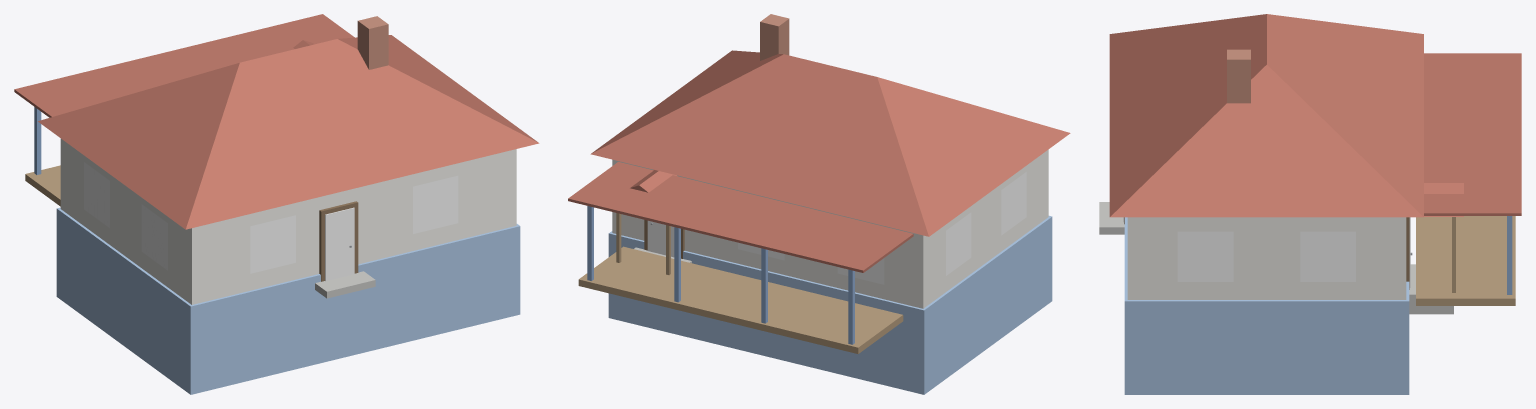
The model's file is home_house.glb.
The picture shows the model from 3 angles, left to right: view 1: azimuth 30°, elevation 25°; view 2: azimuth 150°, elevation 25°; view 3: azimuth 270°, elevation 25°; orthographic projection. The views are drawn at different scales.
Parts seen in each view (by area): view 1: home_house; view 2: home_house; view 3: home_house.
Boxes of the visible parts, left/top/right/bottom form: home_house: left=14, top=14, right=539, bottom=394; home_house: left=568, top=14, right=1070, bottom=394; home_house: left=1099, top=14, right=1521, bottom=394.
Size of what is drawn, in the model's own units: 10.9 by 8.1 by 10.61.
